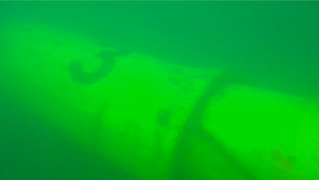3: (68, 41, 133, 84)
pipe: (1, 10, 319, 180)
